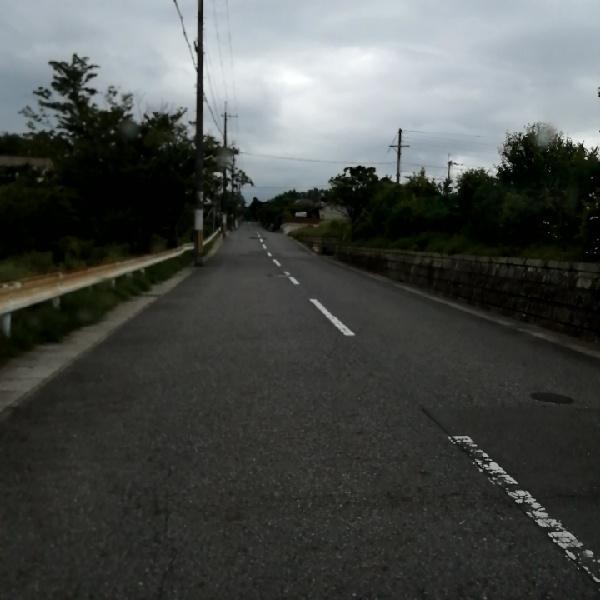D00: (153, 494, 176, 597)
D44: (448, 427, 596, 593)
D50: (524, 384, 577, 405)
